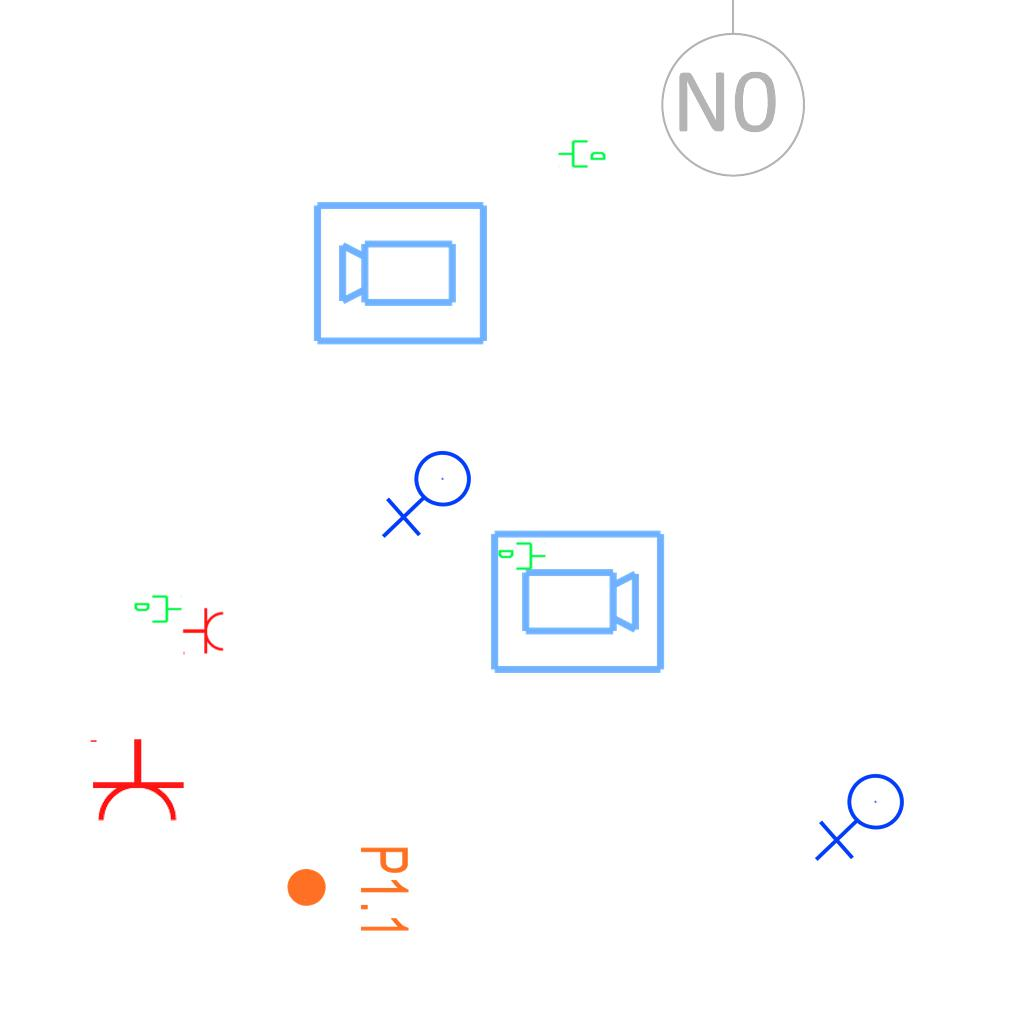Datenanschluss_einfach: (133, 593, 183, 627), (557, 136, 607, 170), (497, 540, 547, 574)
Downlight_LED_Einbauleuchten_Flur: (284, 844, 412, 937)
Elektroanschluss_allgemein_230V_Geraeteanschlussdose_230V: (814, 772, 913, 866), (381, 449, 480, 543)
KFO_Kamera_mit_Festobjektiv: (310, 195, 492, 349), (486, 526, 668, 680)
Schukosteckdose_einfach: (86, 737, 186, 824), (182, 607, 225, 657)
